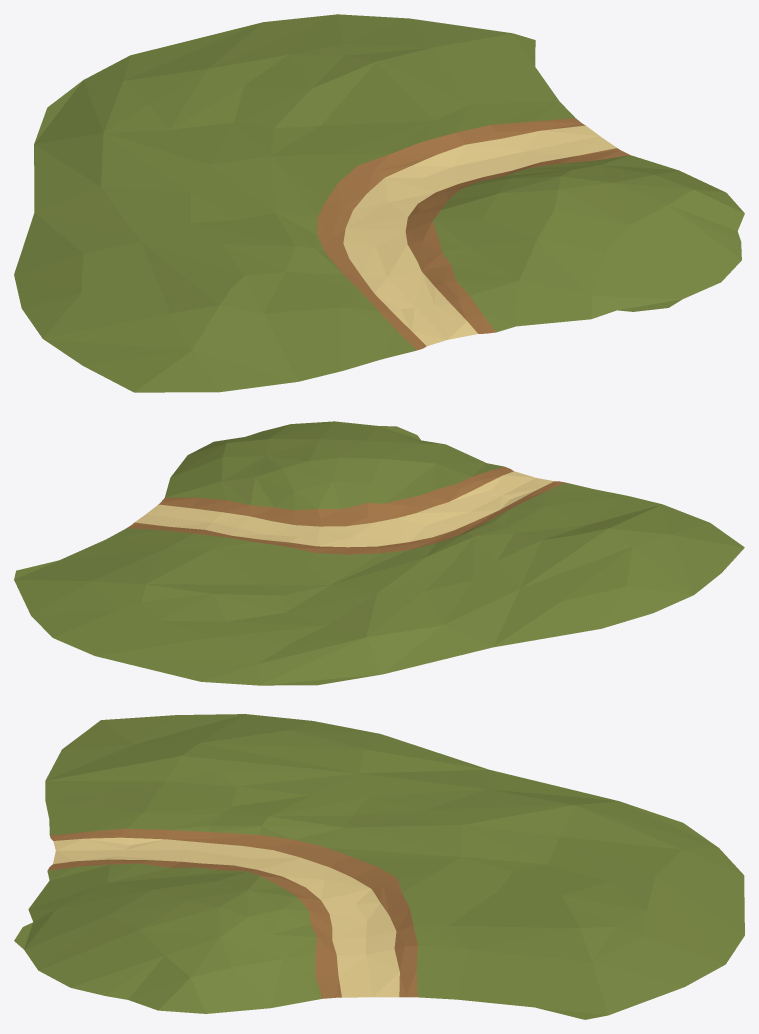
File: Terrain_Road_Bend-03.FBX
The picture shows the model from 3 angles, top to bottom: view 1: azimuth 30°, elevation 25°; view 2: azimuth 150°, elevation 25°; view 3: azimuth 270°, elevation 25°; orthographic projection. The views are drawn at different scales.
Visible parts, largest first — view 1: Terrain_Road_Bend-03; view 2: Terrain_Road_Bend-03; view 3: Terrain_Road_Bend-03.
Boxes of the visible parts, x1,y1,x2,y2 form: Terrain_Road_Bend-03: [14, 14, 744, 392]; Terrain_Road_Bend-03: [14, 421, 744, 685]; Terrain_Road_Bend-03: [14, 714, 744, 1019].
Size of the model in its own units: 2649 by 138 by 2674.
Materials: 1 (1 with a texture image).
